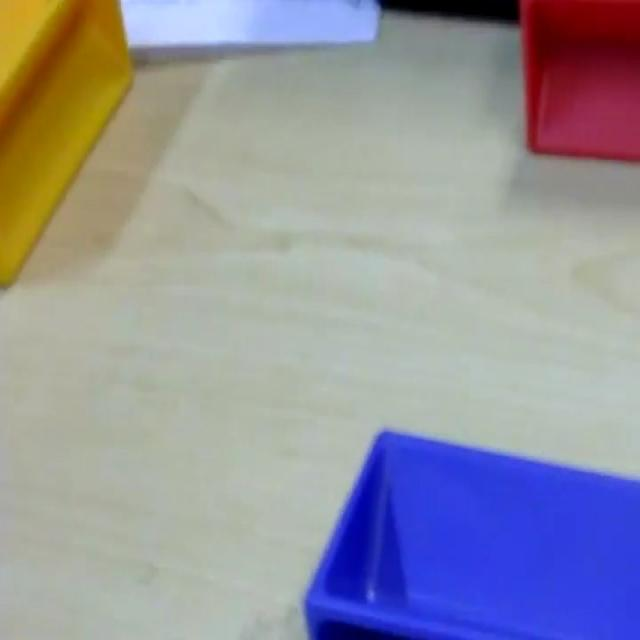blue_block: (302, 423, 638, 636)
red_block: (517, 0, 638, 161)
yellow_block: (0, 0, 134, 287)
